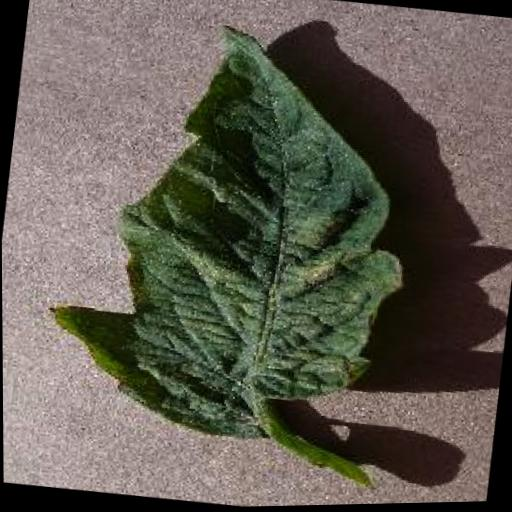Spider Mites: (33, 2, 437, 459)
